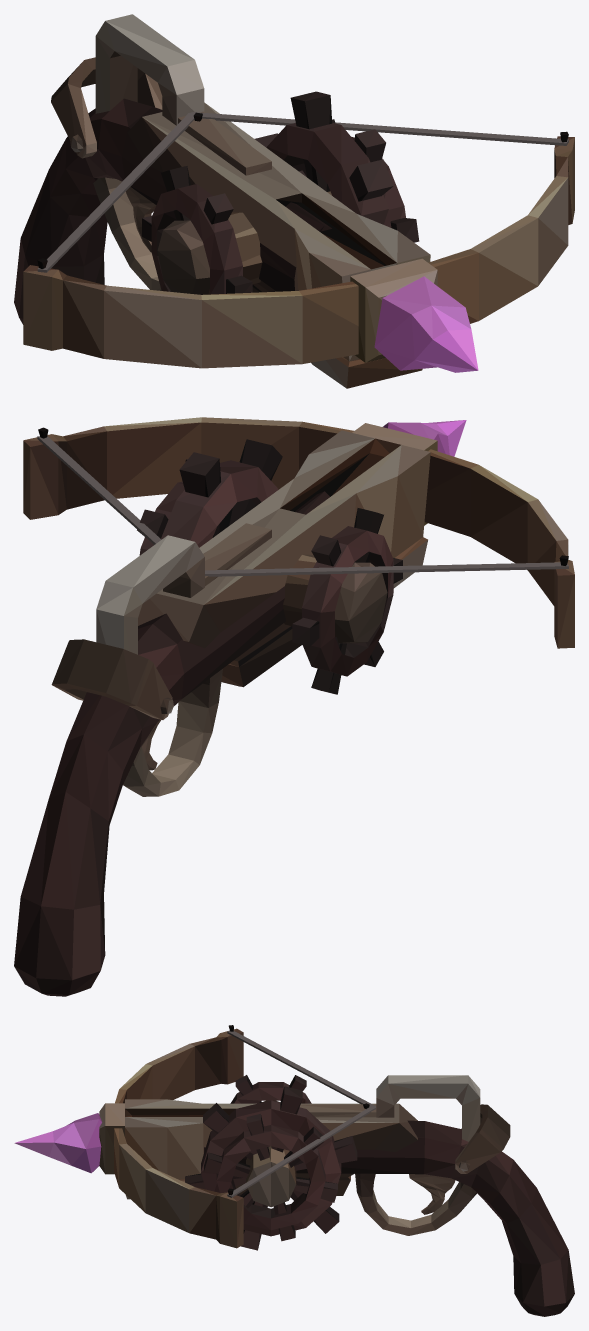
File: weapon_crossbow_bronze_2.fbx
The picture shows the model from 3 angles, top to bottom: view 1: azimuth 30°, elevation 25°; view 2: azimuth 150°, elevation 25°; view 3: azimuth 270°, elevation 25°; orthographic projection. The views are drawn at different scales.
Visible parts, largest first — view 1: weapon_crossbow_bronze_2; view 2: weapon_crossbow_bronze_2; view 3: weapon_crossbow_bronze_2.
Part boxes in pixels (x1,y1,x2,y2): weapon_crossbow_bronze_2: (14, 14, 574, 388); weapon_crossbow_bronze_2: (14, 417, 574, 996); weapon_crossbow_bronze_2: (14, 1025, 574, 1316).
Size of the model in its own units: 0.8673 by 0.5559 by 1.19.
